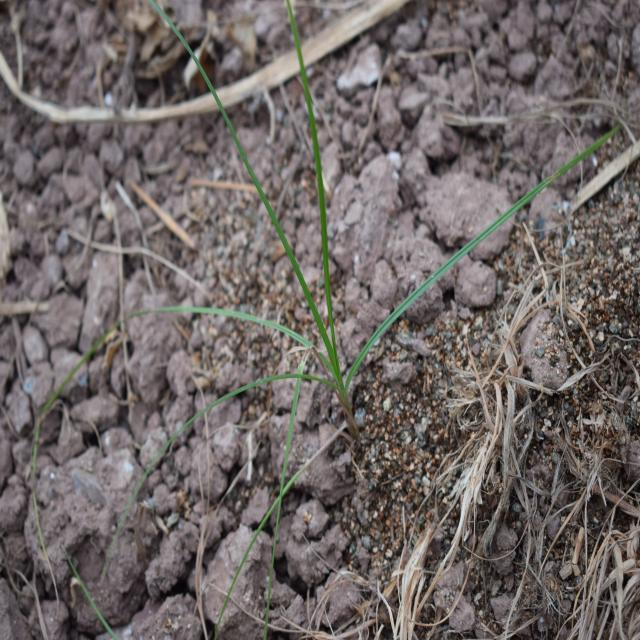sedge: (120, 0, 456, 482)
